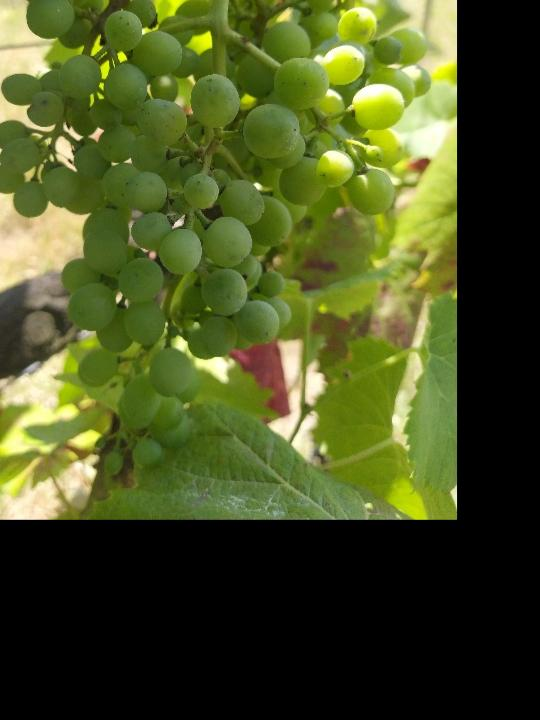grape: (0, 0, 434, 493)
